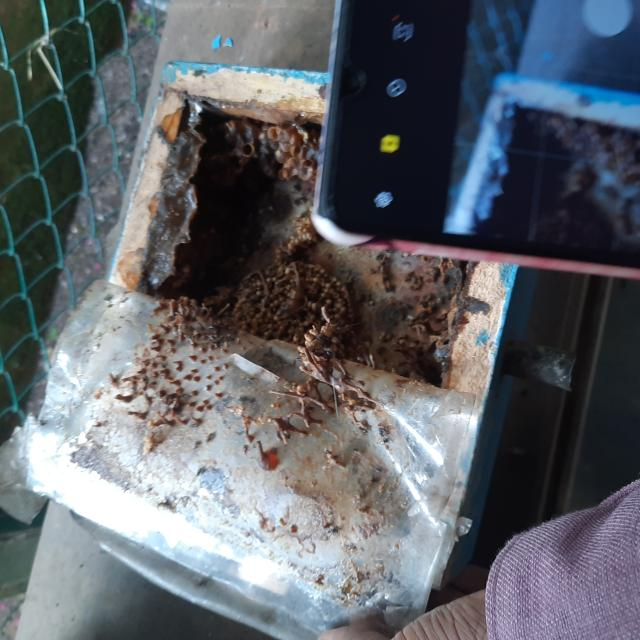honeybee: (204, 430, 215, 444), (378, 425, 389, 438), (193, 466, 205, 477), (375, 259, 386, 271), (206, 332, 219, 342), (184, 334, 194, 345), (306, 405, 316, 416), (357, 425, 369, 434), (380, 438, 390, 447), (324, 447, 333, 457), (190, 423, 201, 430), (375, 252, 384, 260), (328, 527, 338, 534), (178, 393, 192, 398), (262, 295, 270, 303), (369, 474, 375, 484), (281, 302, 288, 310), (290, 281, 297, 289), (214, 340, 220, 349), (228, 336, 235, 342), (268, 264, 275, 270), (274, 282, 280, 288)
